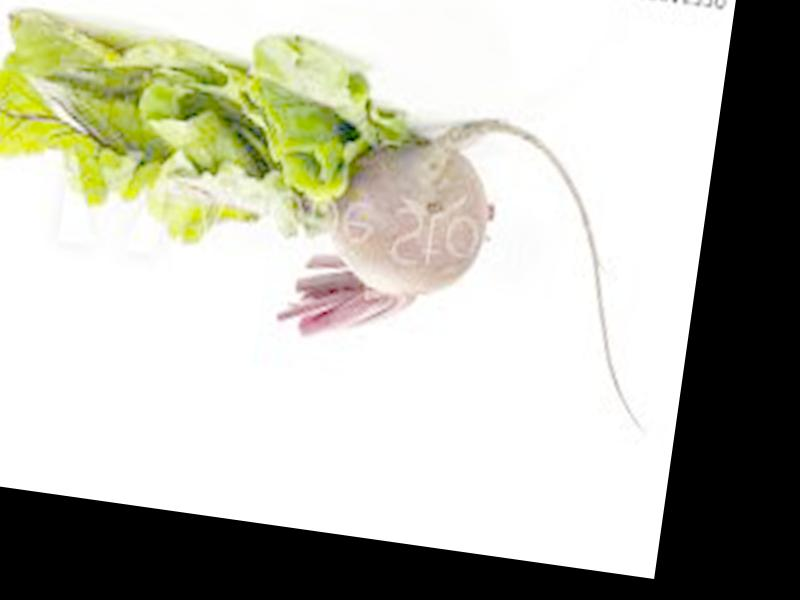Beet: (262, 91, 689, 435)
